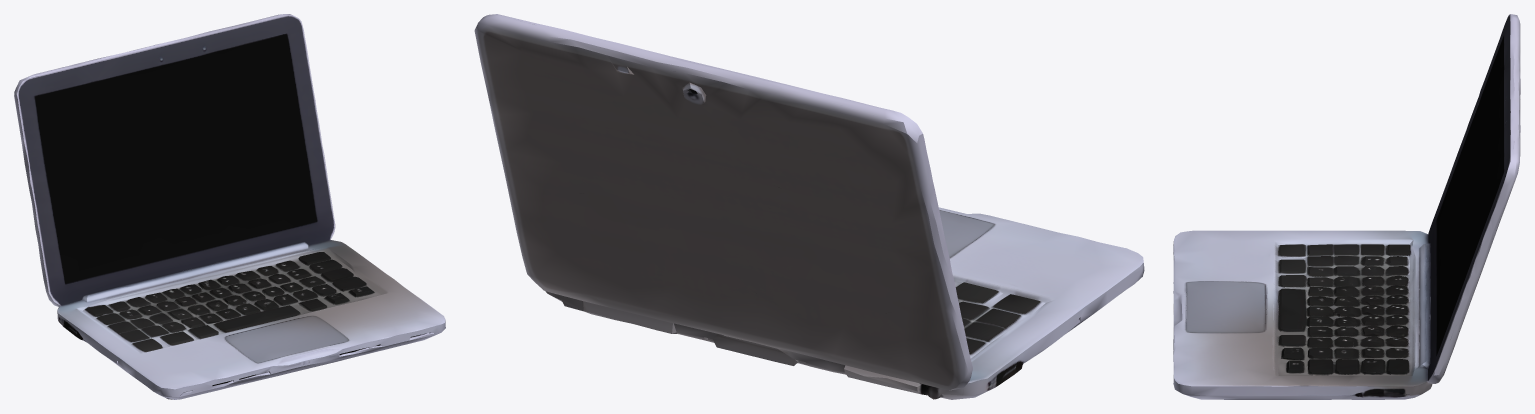
Rendered from Laptop.glb.
3 renders of one model, left to right at view 1: azimuth 30°, elevation 25°; view 2: azimuth 150°, elevation 25°; view 3: azimuth 270°, elevation 25°, orthographic. The views are drawn at different scales.
Visible parts, largest first — view 1: geometry_0; view 2: geometry_0; view 3: geometry_0.
Boxes of the visible parts, x1=… form: geometry_0: x1=14, y1=14, x2=445, y2=399; geometry_0: x1=474, y1=14, x2=1144, y2=399; geometry_0: x1=1173, y1=14, x2=1520, y2=399.
Size of the model in its own units: 0.34 by 0.2494 by 0.3195.
1 material, 1 textured.
